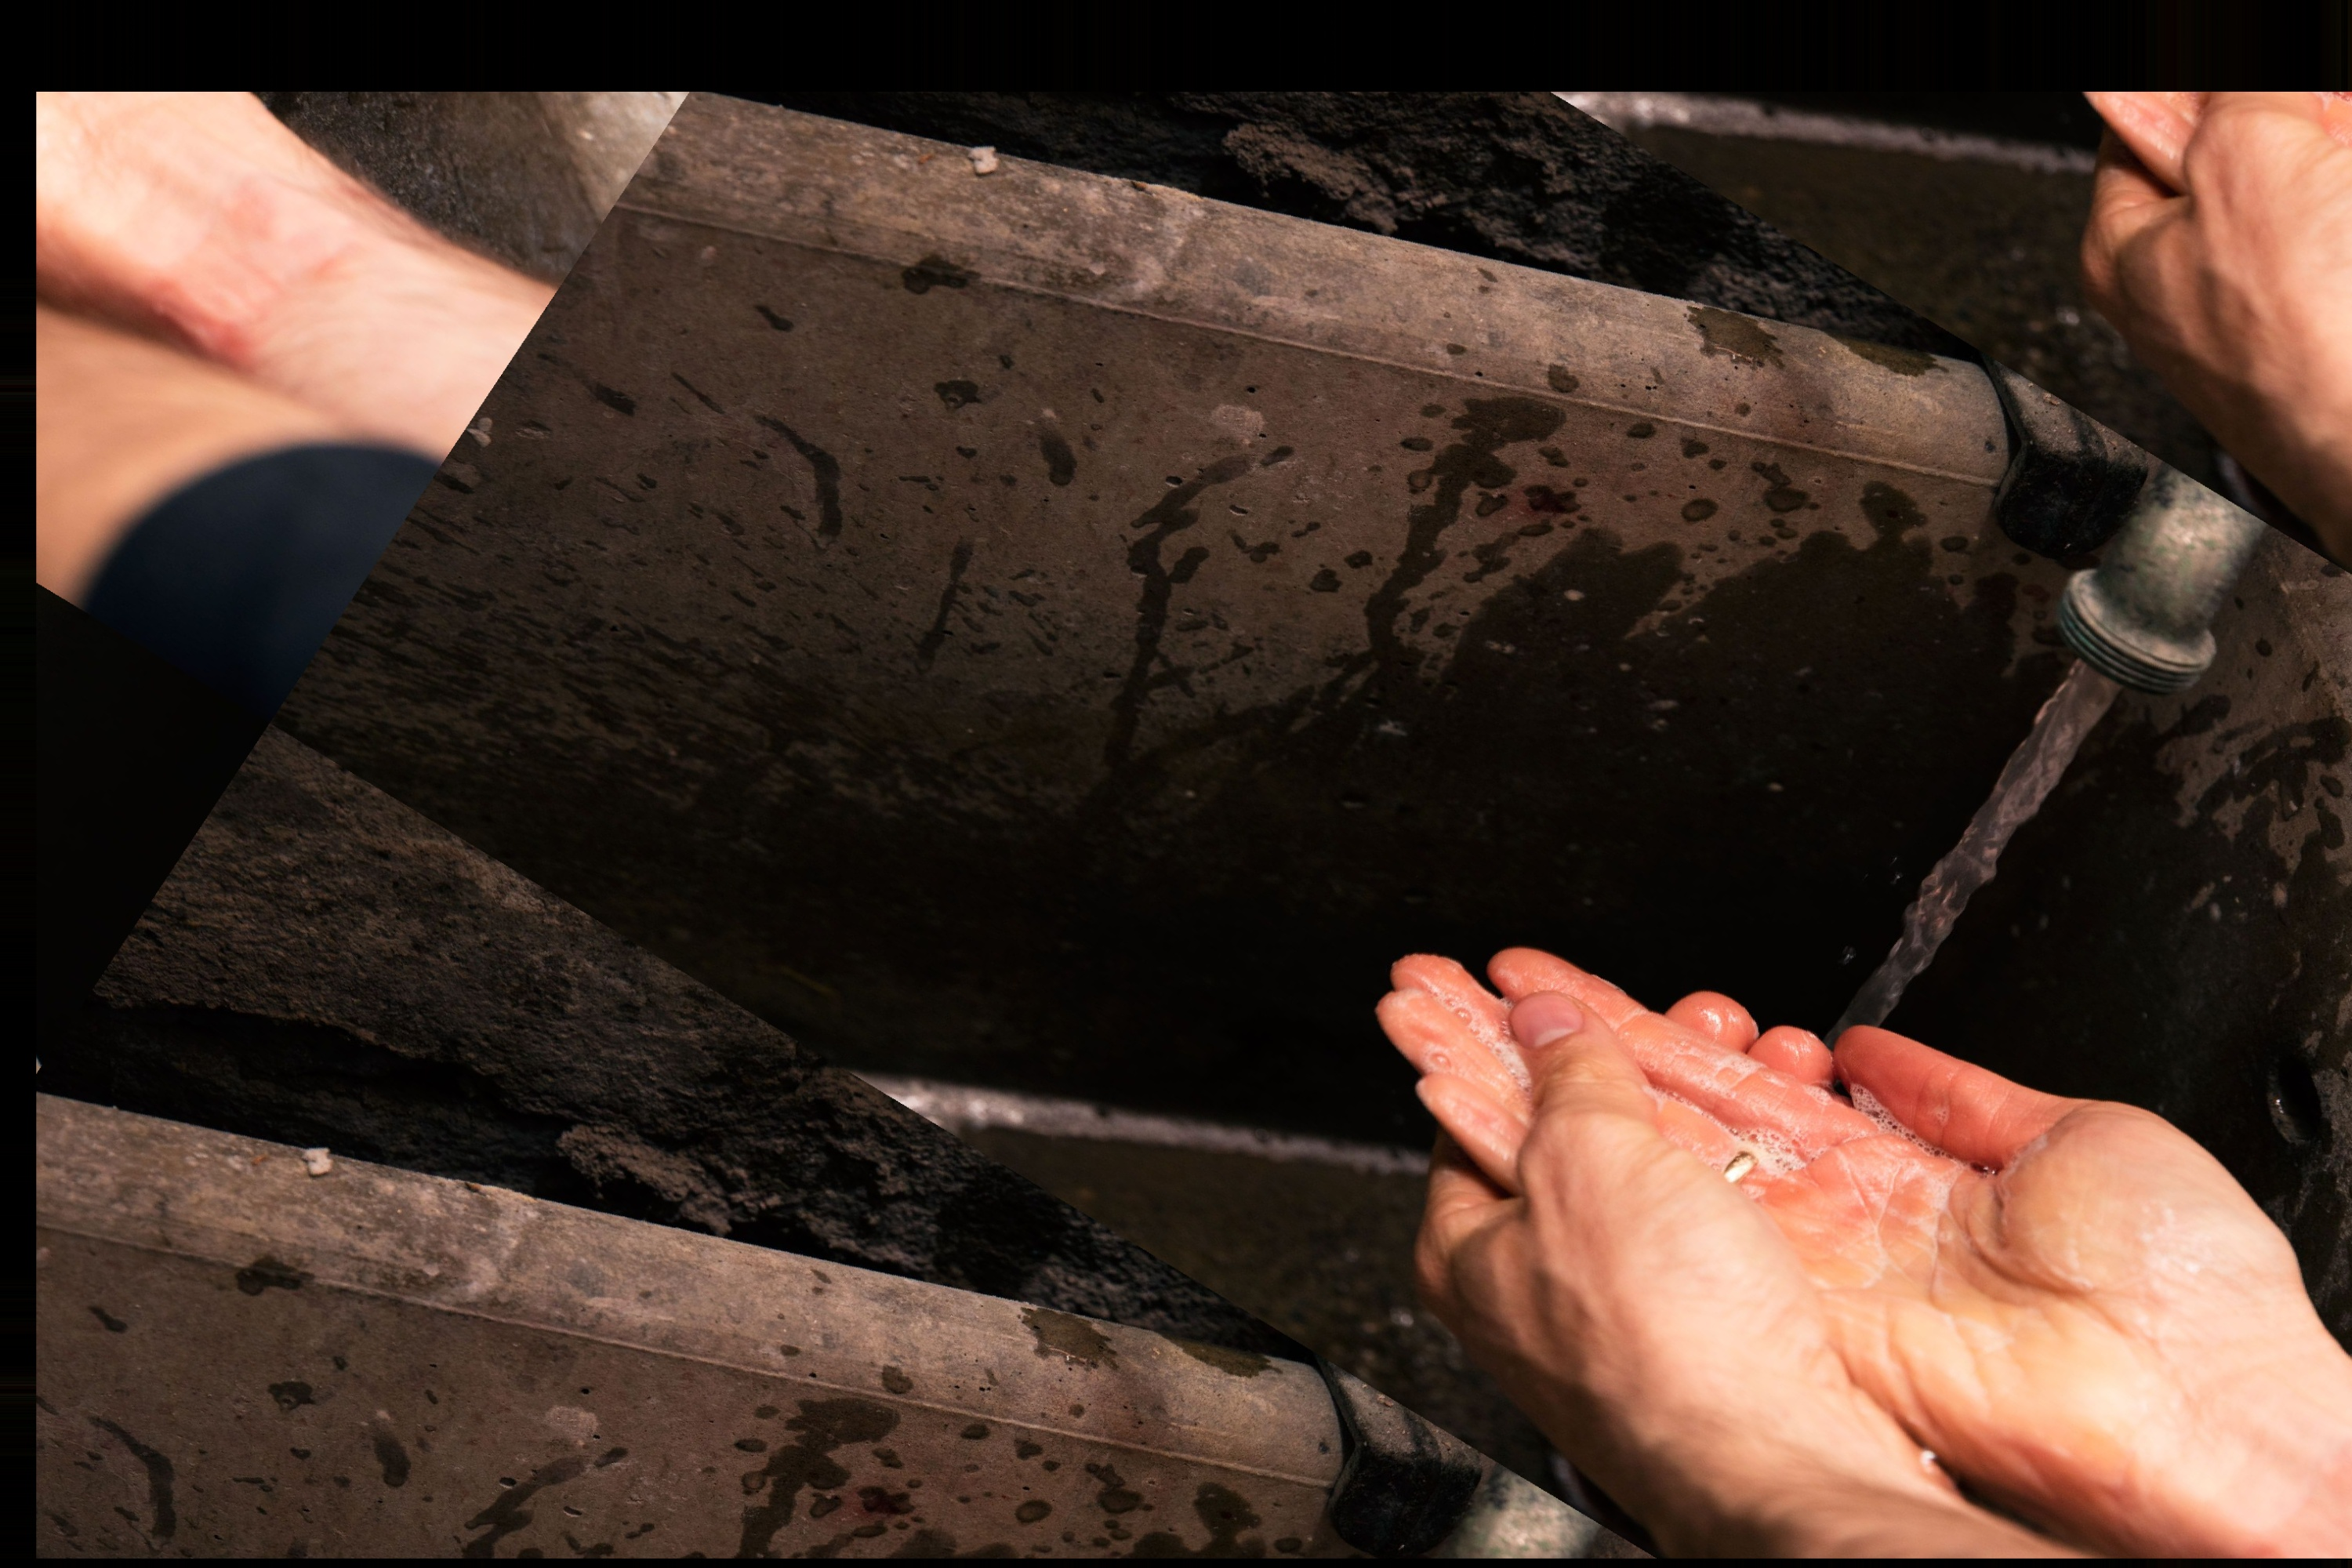washing hand: (987, 187, 2352, 1568)
